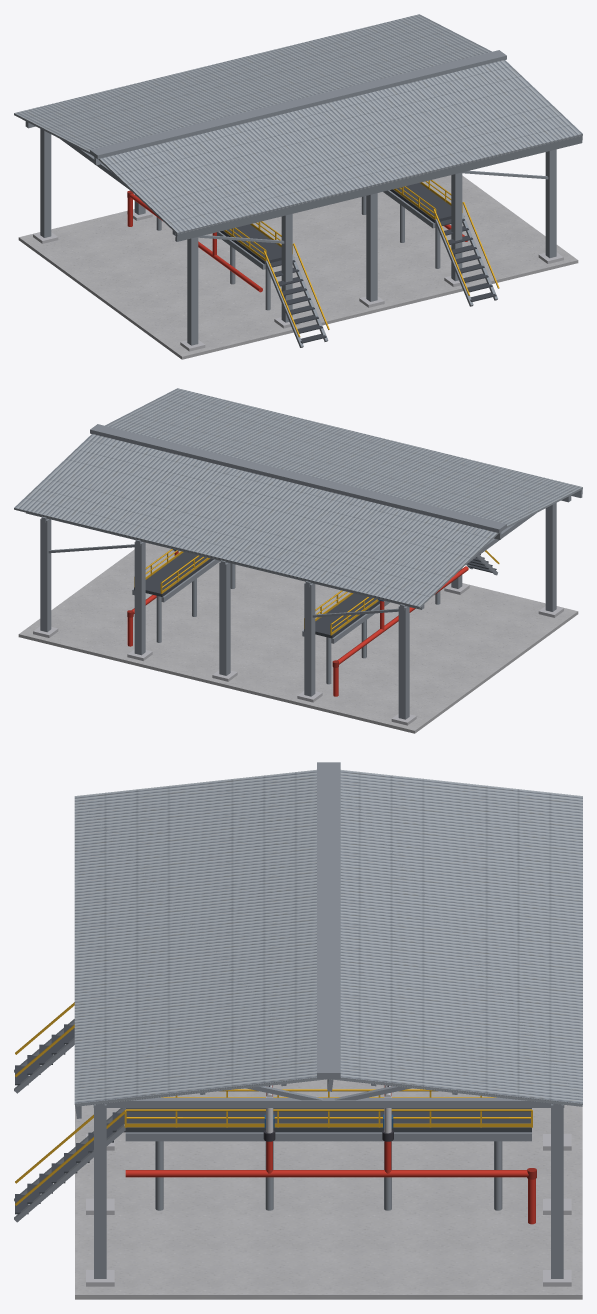
3 renders of one model, top to bottom at view 1: azimuth 30°, elevation 25°; view 2: azimuth 150°, elevation 25°; view 3: azimuth 270°, elevation 25°, orthographic. The views are drawn at different scales.
Visible parts, largest first — view 1: object 1, object 48, object 43, instances (×4), object 53, object 52, object 88, object 54, object 71; view 2: object 1, object 43, object 48, instances (×2), object 53, object 88, object 54, object 37, object 71; view 3: object 43, object 48, object 1, instances (×4), object 53, object 88, object 30, object 90, object 105, object 100, object 98, object 103 (+1 smaller).
Part boxes in pixels (x1,y1,x2,y2): object 1: (18, 175, 578, 359); object 48: (98, 60, 582, 234); object 43: (14, 14, 491, 154); instances (×4): (33, 129, 563, 351); object 53: (90, 50, 506, 159); object 52: (175, 136, 582, 241); object 88: (390, 183, 451, 222); object 54: (220, 224, 281, 264); object 71: (129, 193, 262, 292); object 1: (18, 543, 578, 733); object 43: (14, 434, 498, 608); object 48: (105, 388, 582, 528); instances (×2): (33, 503, 563, 725); object 53: (90, 424, 506, 533); object 88: (134, 552, 213, 596); object 54: (304, 593, 379, 638); object 37: (26, 512, 424, 609); object 71: (337, 566, 468, 664); object 43: (329, 770, 582, 1106); object 48: (74, 769, 328, 1106); object 1: (75, 1079, 582, 1299); instances (×4): (15, 1024, 571, 1286); object 53: (317, 762, 340, 1078); object 88: (125, 1108, 531, 1132); object 30: (93, 1097, 564, 1107); object 90: (125, 1132, 531, 1141); object 105: (125, 1170, 528, 1177); object 100: (126, 1123, 530, 1127); object 98: (125, 1109, 531, 1111); object 103: (14, 1124, 125, 1222).
Size of the model in its own units: 43.4 by 15.09 by 33.61.
11 materials, 2 textured.
